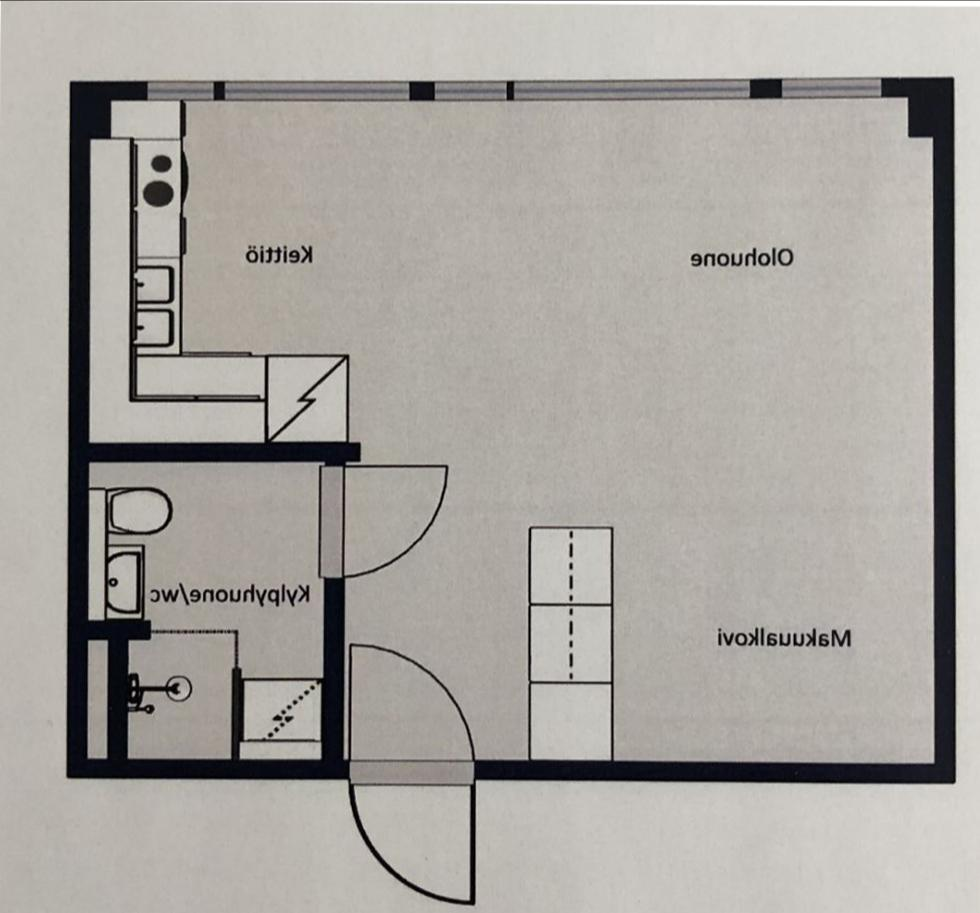bathroom: (88, 456, 332, 759)
door: (342, 752, 484, 902), (342, 635, 484, 782), (315, 458, 453, 578)
perimeter: (61, 72, 957, 781)
window: (504, 74, 762, 110), (213, 76, 419, 106), (772, 71, 896, 103), (424, 72, 515, 108), (143, 74, 226, 108)
